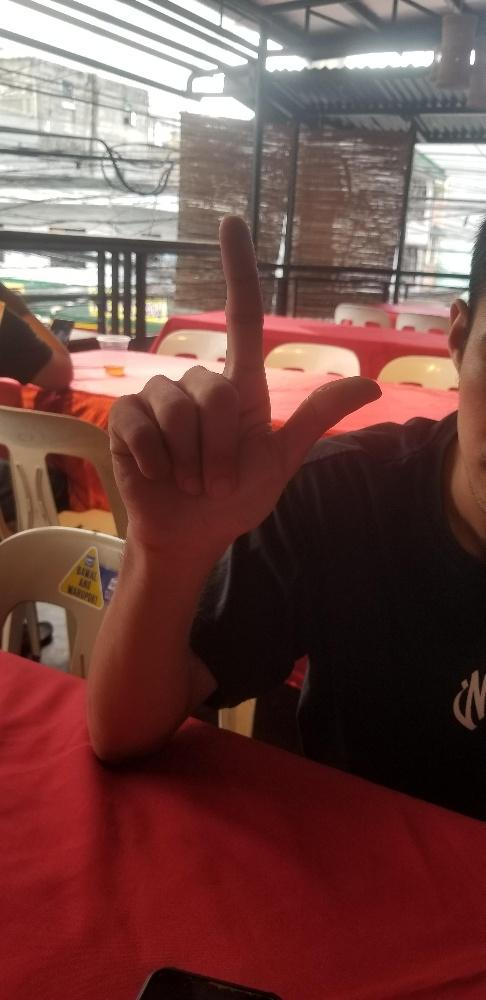l: (100, 212, 383, 561)
